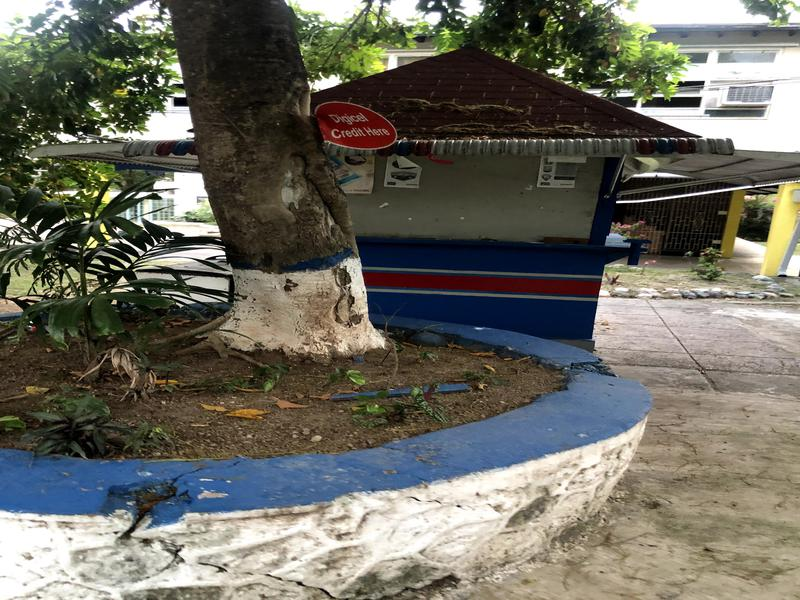18.0050609_-76.7496662_auntyjackie: (296, 35, 737, 384)
